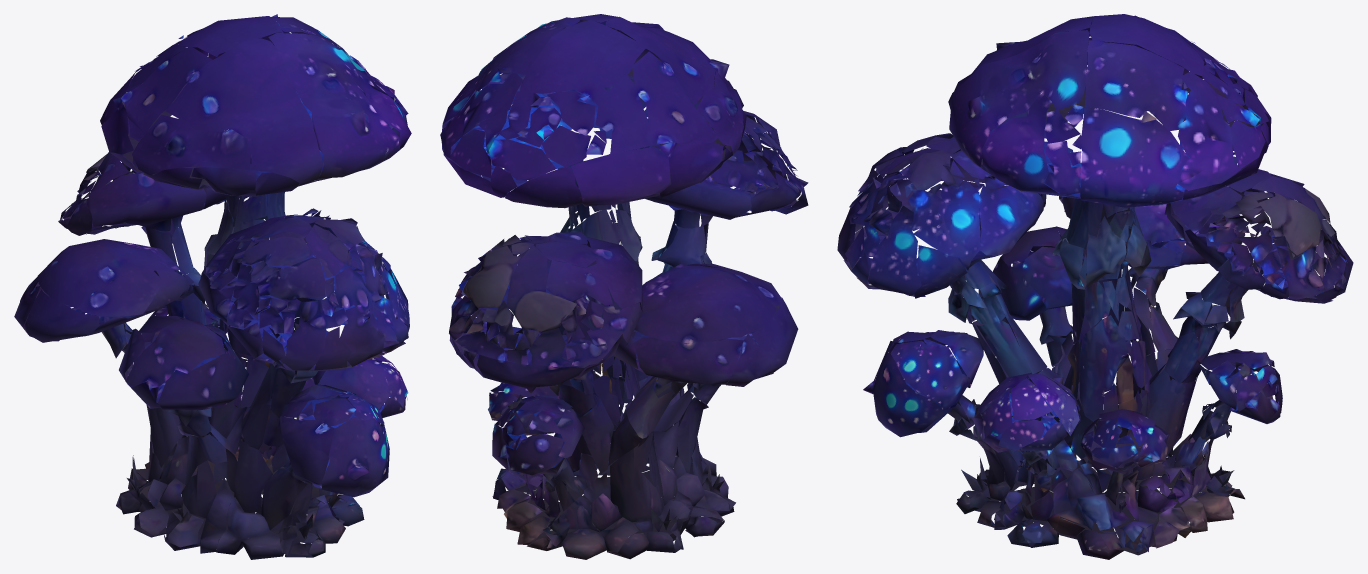
File: TripoSpookyMushroom.fbx
3 views of the same model, side by side, from view 1: azimuth 30°, elevation 25°; view 2: azimuth 150°, elevation 25°; view 3: azimuth 270°, elevation 25° (orthographic). The views are drawn at different scales.
Visible parts, largest first — view 1: TripoSpookyMushroom; view 2: TripoSpookyMushroom; view 3: TripoSpookyMushroom.
Part boxes in pixels (x1,y1,x2,y2): TripoSpookyMushroom: [14, 14, 411, 559]; TripoSpookyMushroom: [440, 14, 808, 559]; TripoSpookyMushroom: [837, 14, 1353, 559].
Bounding box in the file's own units: 1.64 × 2.1 × 2.2.
1 material, 1 textured.
